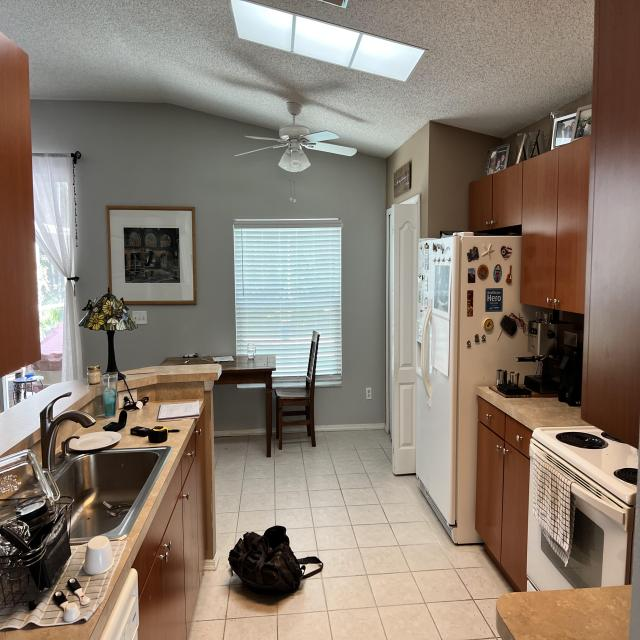Appliance_Dishwasher: (91, 569, 138, 640)
Appliance_Fridge: (415, 233, 528, 547)
Appliance_Oven: (527, 427, 637, 593)
Appliance_Sink: (40, 392, 171, 546)
Cabinet_Flat: (468, 137, 591, 315), (134, 395, 209, 640), (475, 397, 533, 592)
Countertop_Laminate: (0, 401, 198, 640), (496, 586, 632, 640), (0, 381, 89, 456), (477, 387, 588, 427), (124, 364, 222, 390), (55, 419, 112, 454)
